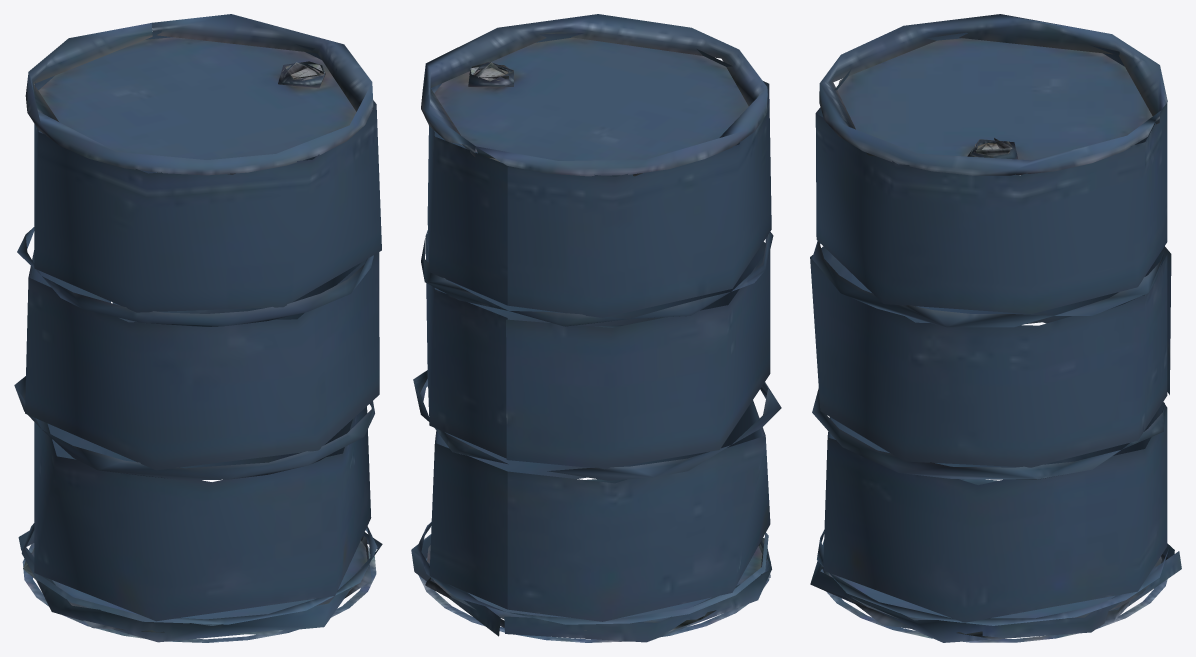
Rendered from barrel.glb.
3 renders of one model, left to right at view 1: azimuth 30°, elevation 25°; view 2: azimuth 150°, elevation 25°; view 3: azimuth 270°, elevation 25°, orthographic.
Parts seen in each view (by area): view 1: barrel_03; view 2: barrel_03; view 3: barrel_03.
Boxes of the visible parts, x1=… form: barrel_03: x1=14, y1=14, x2=382, y2=642; barrel_03: x1=411, y1=14, x2=781, y2=642; barrel_03: x1=810, y1=14, x2=1181, y2=642.
Size of the model in its own units: 0.6416 by 0.9329 by 0.654.
1 material, 1 textured.
